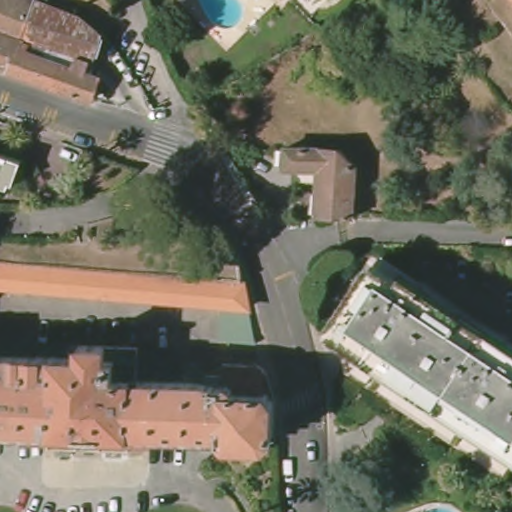pool: (201, 1, 246, 33)
